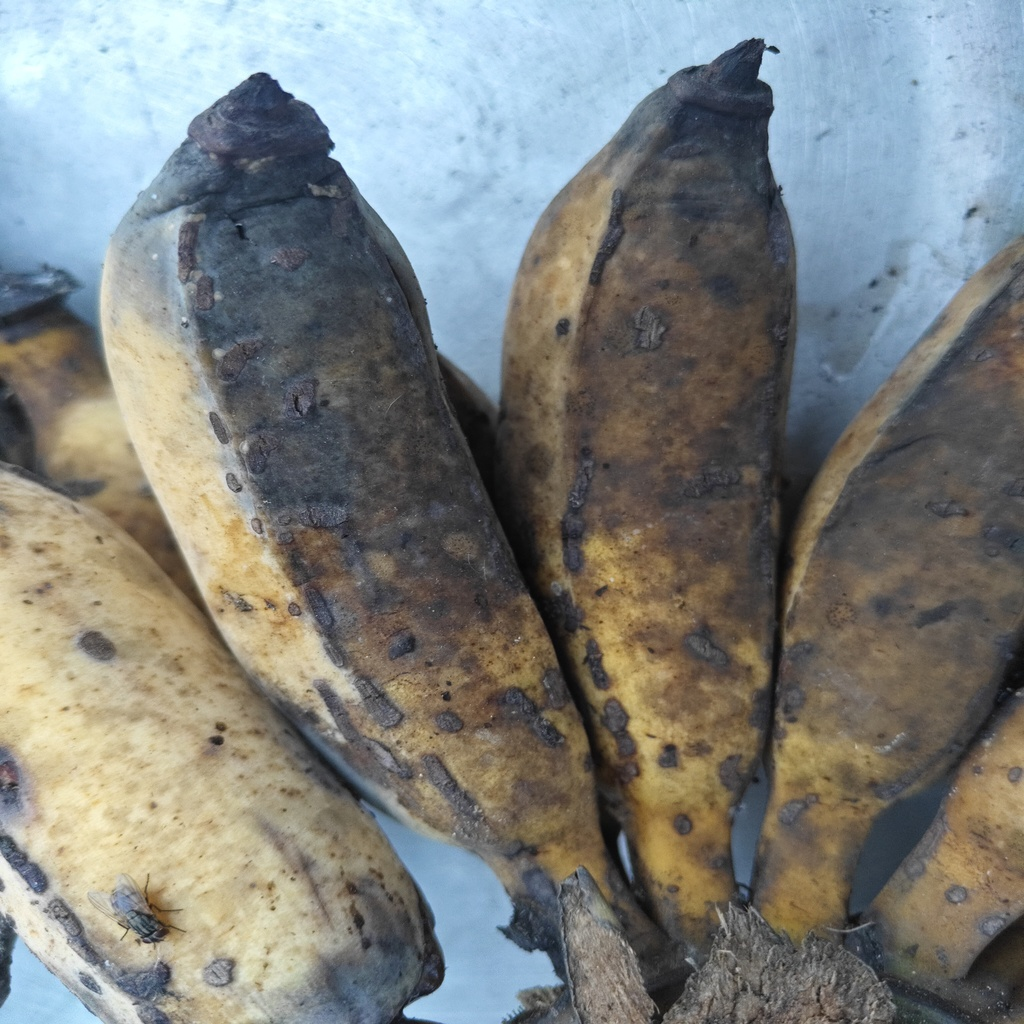unhealthy: (103, 74, 592, 877), (488, 53, 783, 832)
